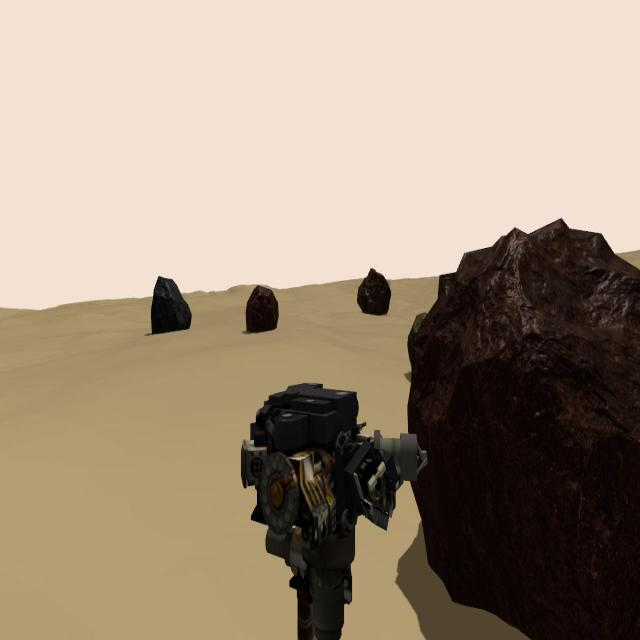rock: (408, 218, 640, 640), (150, 275, 192, 334), (358, 266, 391, 316), (246, 284, 279, 333), (407, 311, 427, 366)
